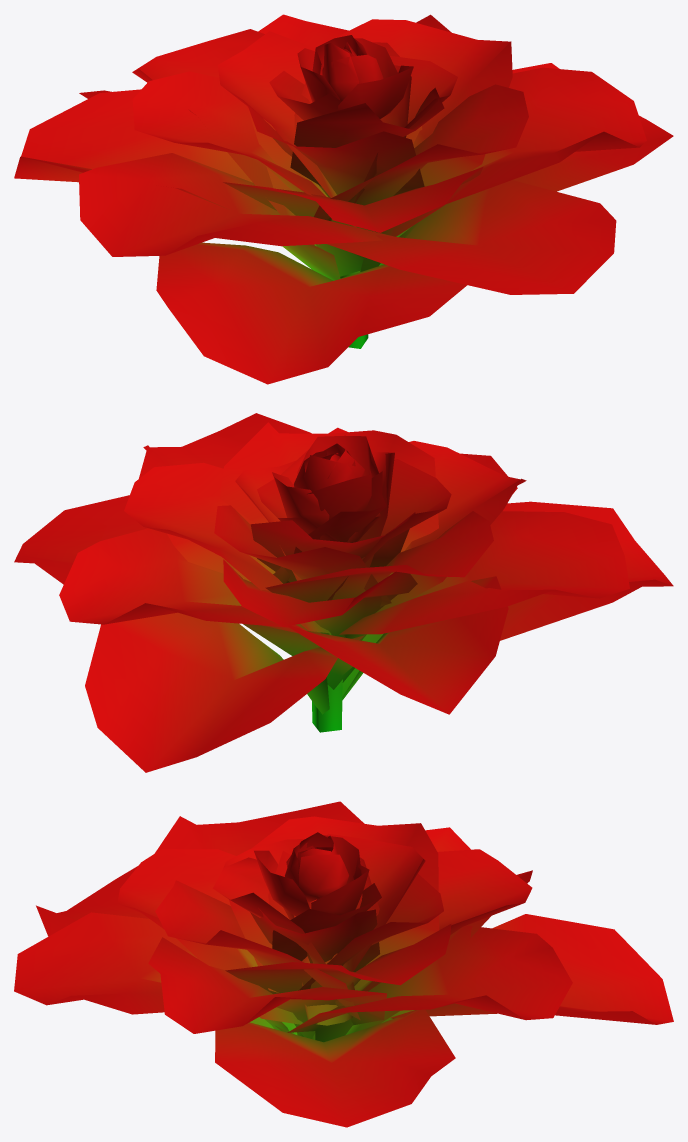
Rendered from Purple Ornamental Kale_LOD3_Var2_ugdieawja.fbx.
3 renders of one model, top to bottom at view 1: azimuth 30°, elevation 25°; view 2: azimuth 150°, elevation 25°; view 3: azimuth 270°, elevation 25°, orthographic. The views are drawn at different scales.
Parts seen in each view (by area): view 1: _b257_Var2_LOD3; view 2: _b257_Var2_LOD3; view 3: _b257_Var2_LOD3.
Boxes of the visible parts, x1,y1,x2,y2 form: _b257_Var2_LOD3: [14, 14, 673, 384]; _b257_Var2_LOD3: [14, 413, 673, 772]; _b257_Var2_LOD3: [14, 801, 673, 1127].
Size of the model in its own units: 56.59 by 27.85 by 61.04.
